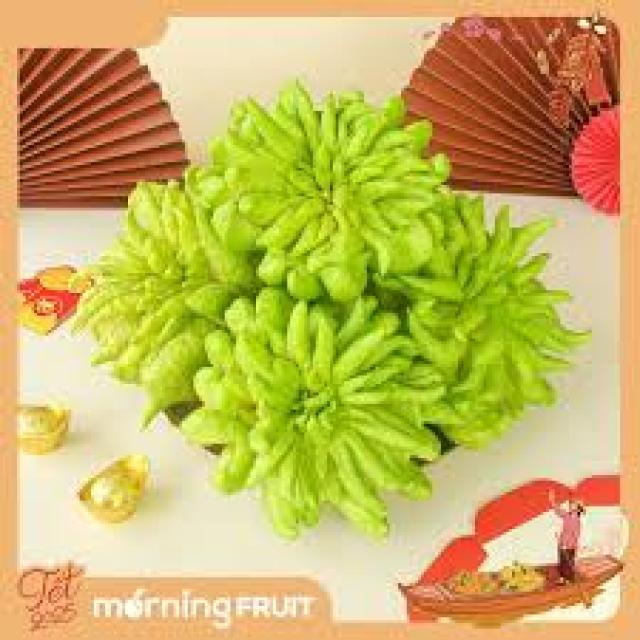PhatThu: (49, 70, 617, 540)
